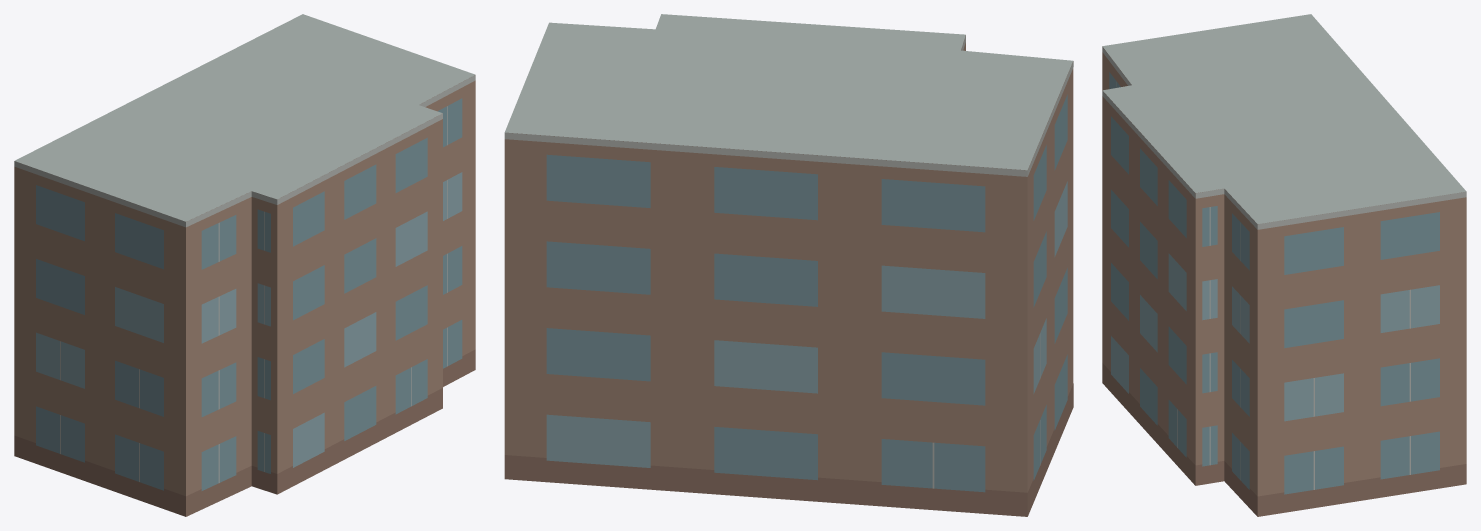
Rendered from survey-upis-32527607.glb.
The picture shows the model from 3 angles, left to right: view 1: azimuth 30°, elevation 25°; view 2: azimuth 150°, elevation 25°; view 3: azimuth 270°, elevation 25°; orthographic projection. The views are drawn at different scales.
Visible parts, largest first — view 1: survey-upis-32527607.tmp; view 2: survey-upis-32527607.tmp; view 3: survey-upis-32527607.tmp.
Boxes of the visible parts, x1,y1,x2,y2 form: survey-upis-32527607.tmp: (14,14,475,516); survey-upis-32527607.tmp: (504,14,1073,516); survey-upis-32527607.tmp: (1102,14,1466,516).
Size of the model in its own units: 19.57 by 12.7 by 14.34.
